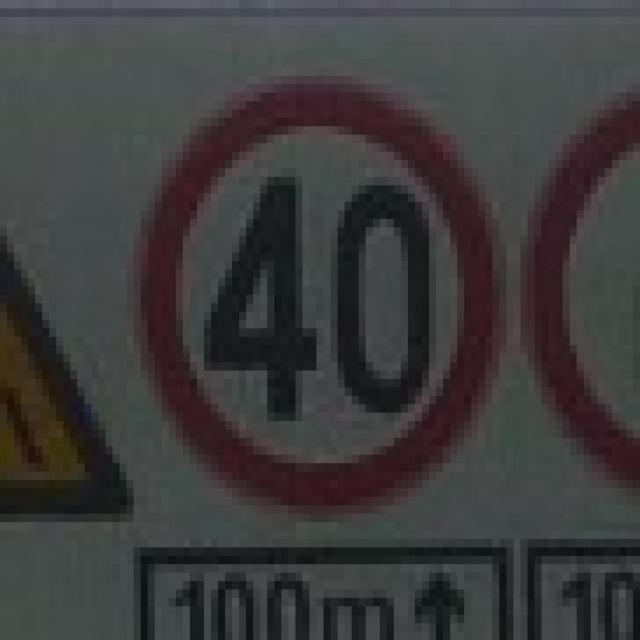Speed Limit -40-: (198, 170, 445, 427)
